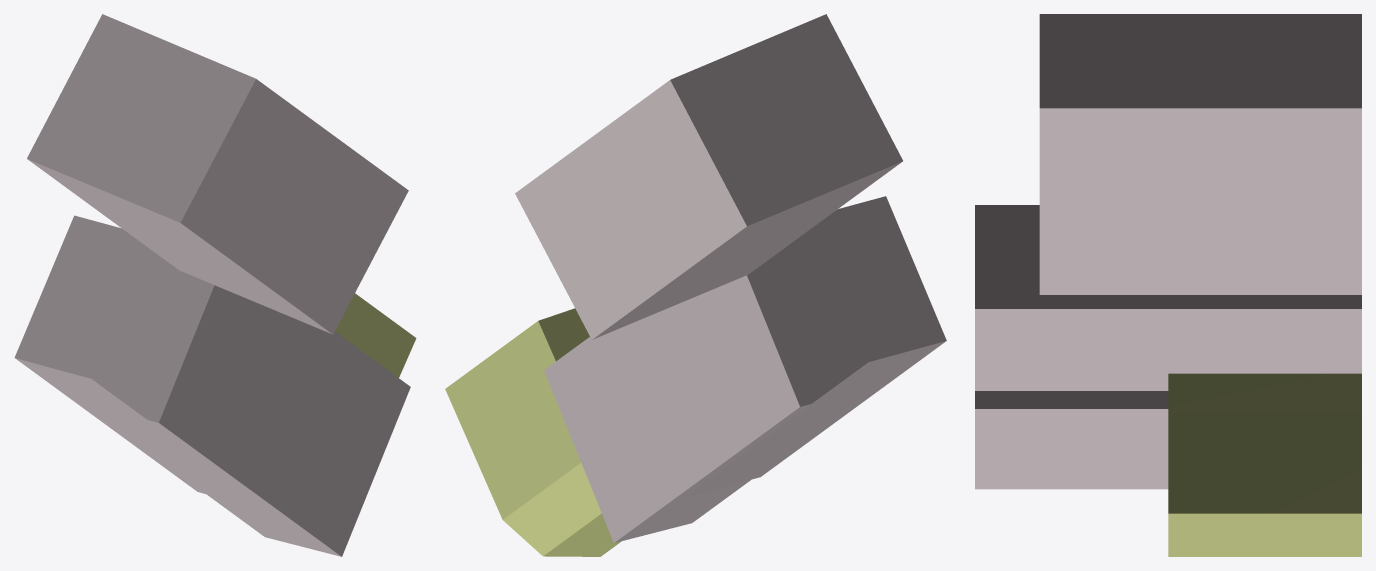
The picture shows the model from 3 angles, left to right: view 1: azimuth 30°, elevation 25°; view 2: azimuth 150°, elevation 25°; view 3: azimuth 270°, elevation 25°; orthographic projection. The views are drawn at different scales.
Parts seen in each view (by area): view 1: 0_1_3_2_2_1_2_1_2_0; view 2: 0_1_3_2_2_1_2_1_2_0; view 3: 0_1_3_2_2_1_2_1_2_0.
Part boxes in pixels (bbox=[...]): 0_1_3_2_2_1_2_1_2_0: bbox=[14, 14, 416, 556]; 0_1_3_2_2_1_2_1_2_0: bbox=[445, 14, 946, 556]; 0_1_3_2_2_1_2_1_2_0: bbox=[975, 14, 1361, 556].
Bounding box in the file's own units: 17.61 × 24.54 × 18.
